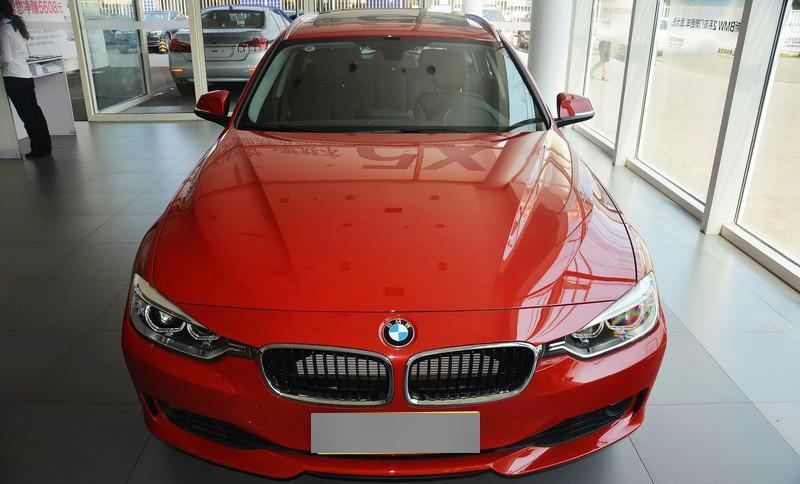Wagon: (119, 9, 669, 482)
